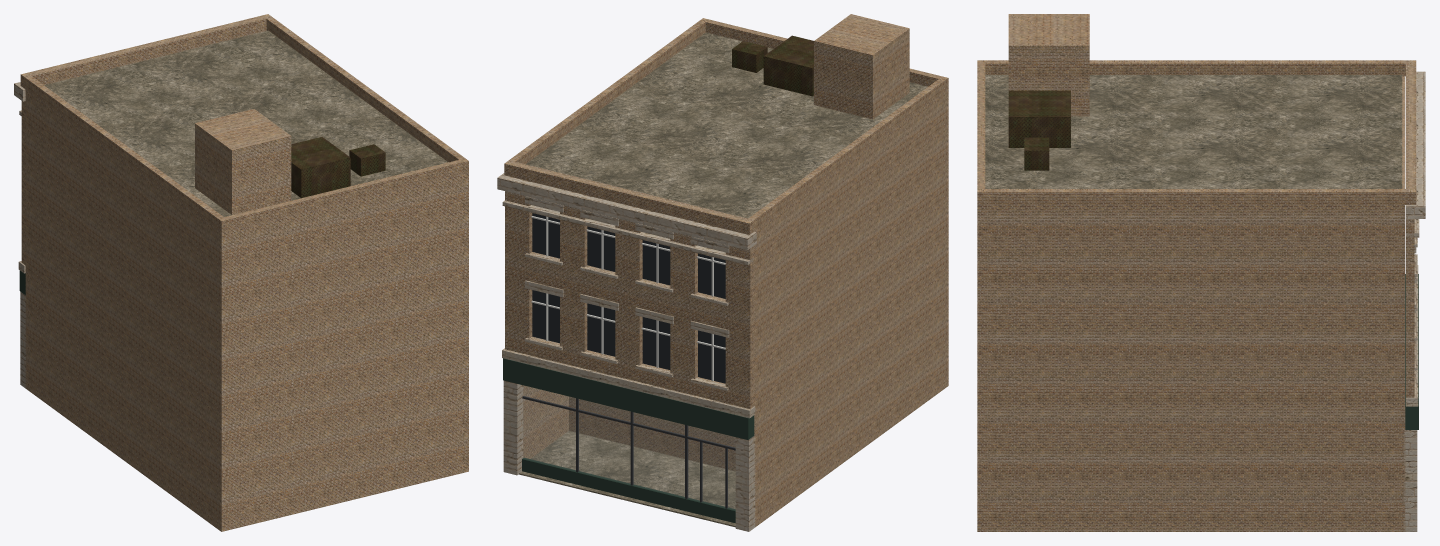
File: bldg_shop_brick_3st.gltf
3 renders of one model, left to right at view 1: azimuth 30°, elevation 25°; view 2: azimuth 150°, elevation 25°; view 3: azimuth 270°, elevation 25°, orthographic. The views are drawn at different scales.
Parts seen in each view (by area): view 1: bldg_shop_brick_3st; view 2: bldg_shop_brick_3st; view 3: bldg_shop_brick_3st.
Boxes of the visible parts, <box> form: bldg_shop_brick_3st: <box>14,14,468,531</box>; bldg_shop_brick_3st: <box>497,14,948,531</box>; bldg_shop_brick_3st: <box>977,14,1425,531</box>.
Size of what is drawn, in the model's own units: 10.2 by 14.12 by 14.35.
Materials: 9 (4 with a texture image).
